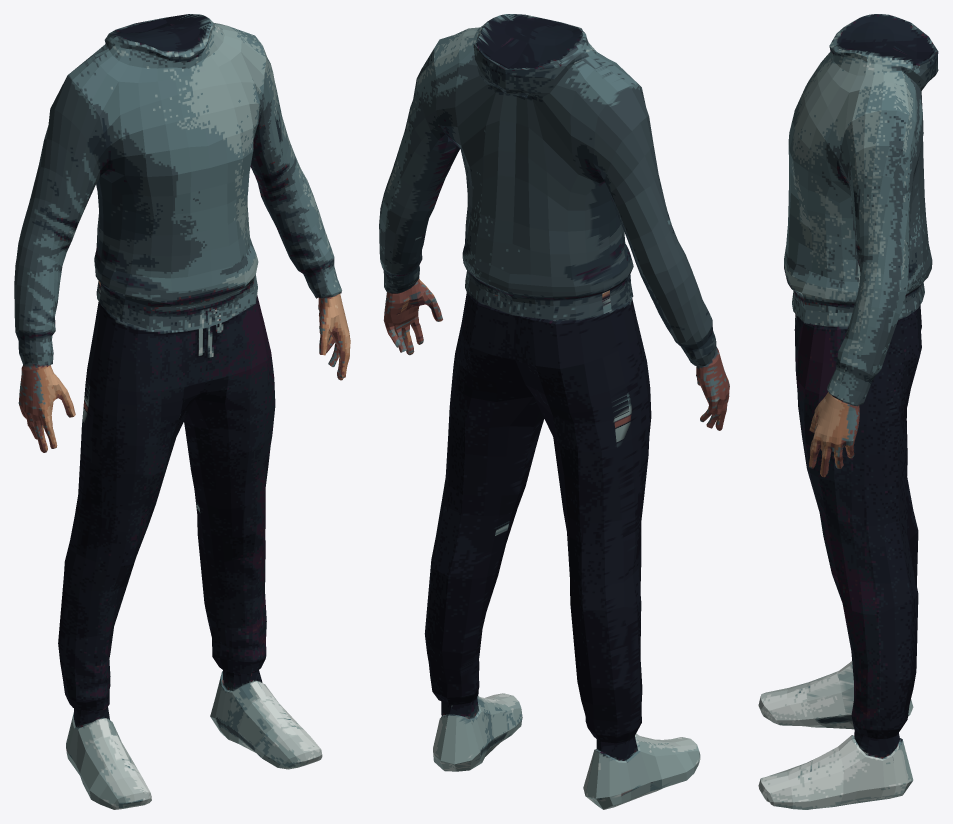
The model's file is Personaje_juegoTerror.fbx.
The picture shows the model from 3 angles, left to right: view 1: azimuth 30°, elevation 25°; view 2: azimuth 150°, elevation 25°; view 3: azimuth 270°, elevation 25°; orthographic projection. The views are drawn at different scales.
Visible parts, largest first — view 1: pecho; view 2: pecho; view 3: pecho.
Boxes of the visible parts, x1=… form: pecho: x1=14, y1=14, x2=350, y2=809; pecho: x1=379, y1=14, x2=729, y2=809; pecho: x1=758, y1=14, x2=938, y2=809.
Size of the model in its own units: 70.05 by 151 by 33.9.
Materials: 1 (1 with a texture image).
